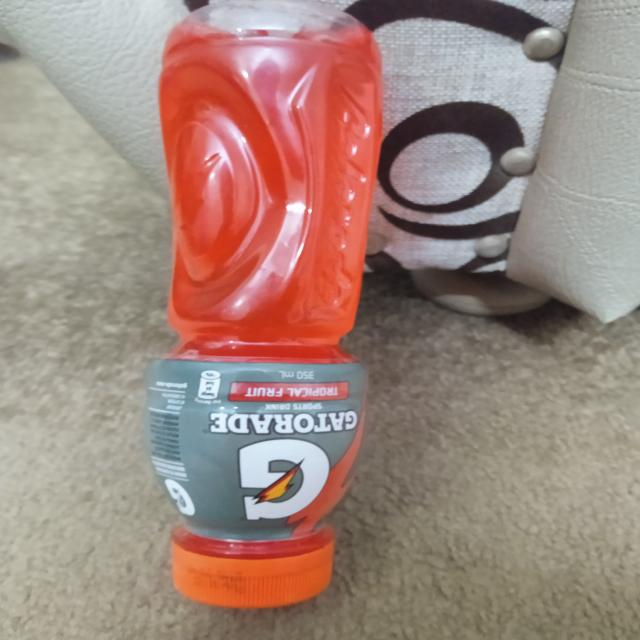Plastic: (131, 5, 402, 618)
